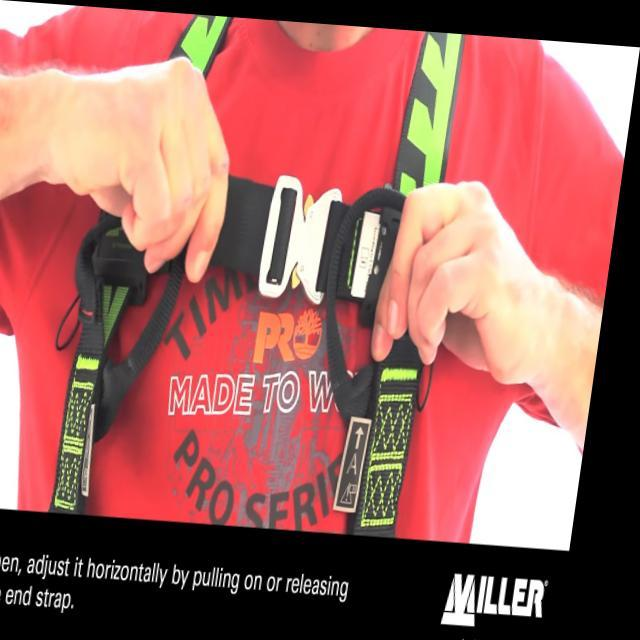belt: (49, 7, 486, 540), (42, 2, 44, 4)
